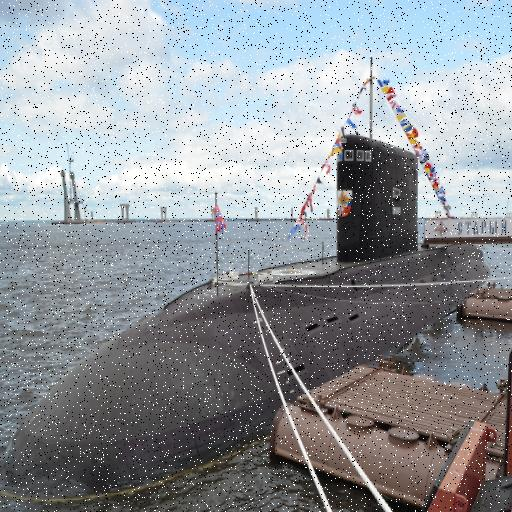submarine: (5, 125, 502, 496)
